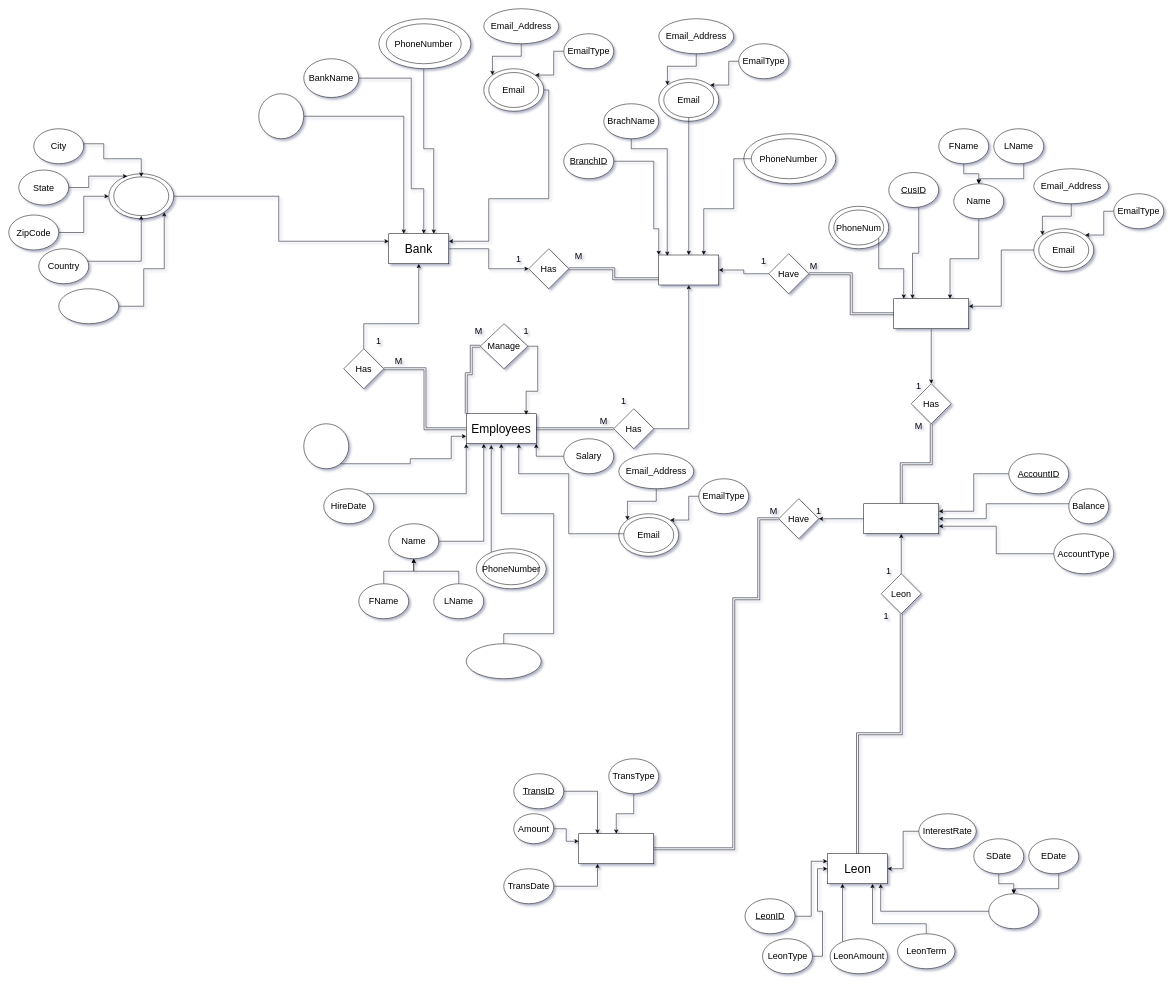
Image size: 1176x991. Some labels were removed from this diagram. The centre of each missing label's shape, as x and y in pixels:
Account: the point at 901,518
Address: the point at 141,196
AddressType: the point at 88,306
BankID: the point at 281,116
Branch: the point at 688,269
Customer: the point at 931,313
Date: the point at 1013,911
EmpID: the point at 326,446
JobTitle: the point at 503,661
Transaction: the point at 616,848
